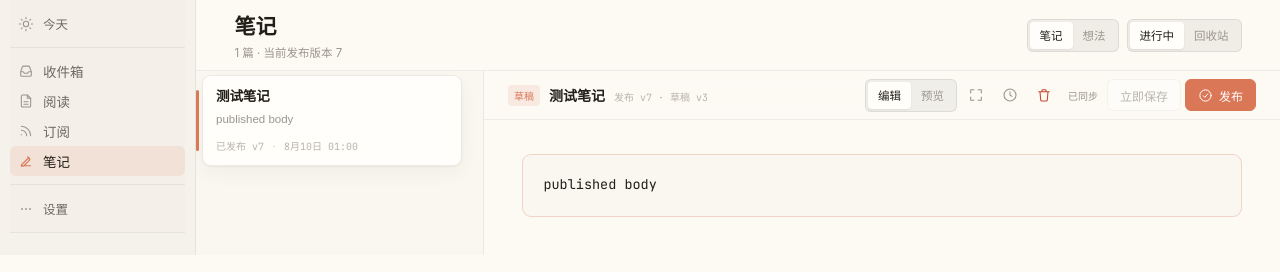
Test case: NotesSurface draft barriers › flushes edited content before publish and uses the returned draft revision CAS
Replace the text in the text box named "笔记内容" with "content to publish" at point(882, 185), box top-left (522, 154), bottom-right (1242, 217)
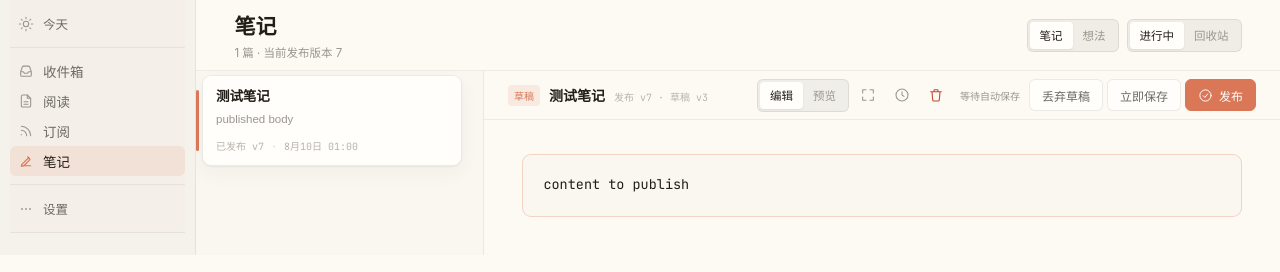
Click the button "发布".
click(1220, 95)  # box top-left (1185, 79), bottom-right (1256, 111)
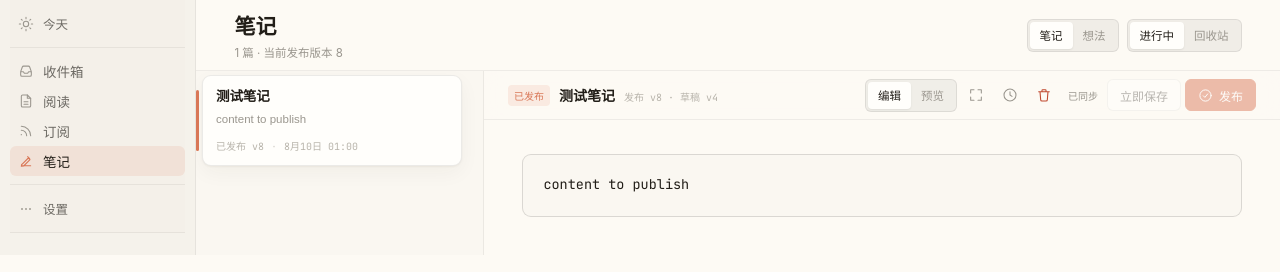
Result: the text "已发布" is shown at top-left (508, 84), bottom-right (550, 106)
